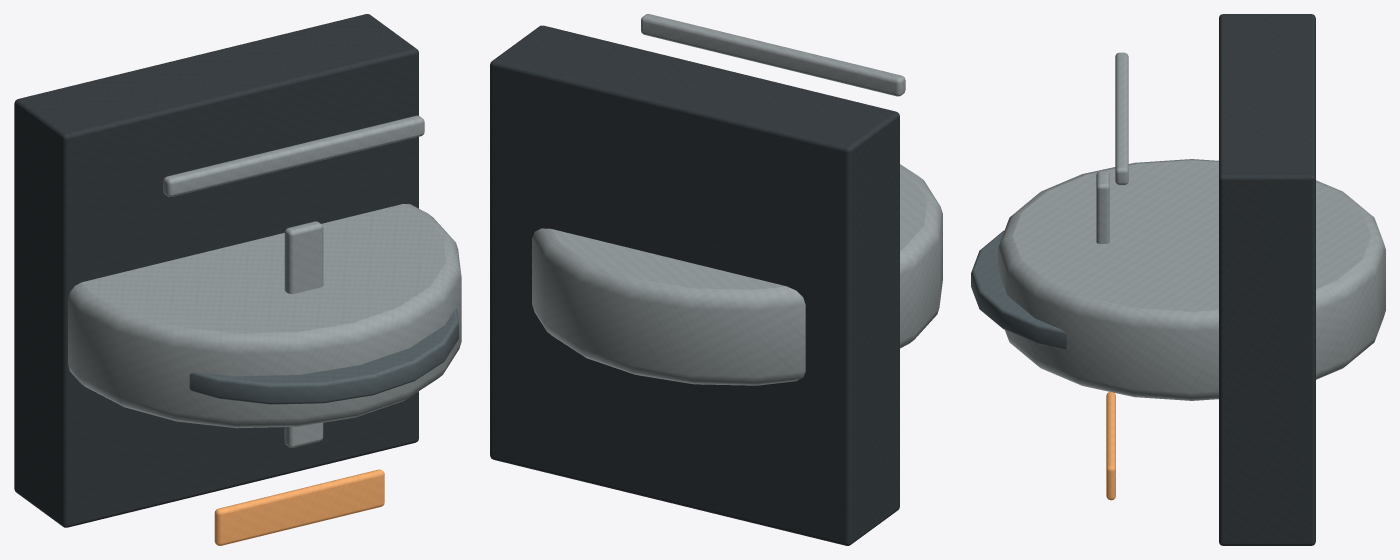
Rendered from IndustrialFan.glb.
3 views of the same model, side by side, from view 1: azimuth 30°, elevation 25°; view 2: azimuth 150°, elevation 25°; view 3: azimuth 270°, elevation 25° (orthographic). The views are drawn at different scales.
Visible parts, largest first — view 1: IndustrialFan_Mesh; view 2: IndustrialFan_Mesh; view 3: IndustrialFan_Mesh.
Part boxes in pixels (x1,y1,x2,y2): IndustrialFan_Mesh: (14,14,461,545); IndustrialFan_Mesh: (490,14,942,545); IndustrialFan_Mesh: (971,14,1385,545).
Bounding box in the file's own units: 0.72 × 0.76 × 0.77.
Materials: 5 (5 with a texture image).
